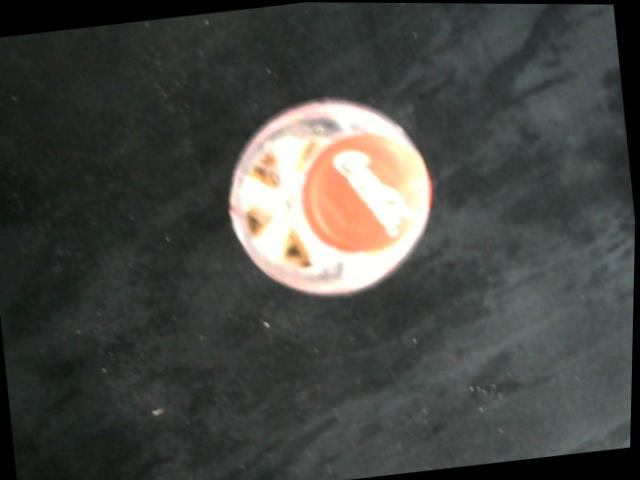bottle: (214, 85, 449, 310)
